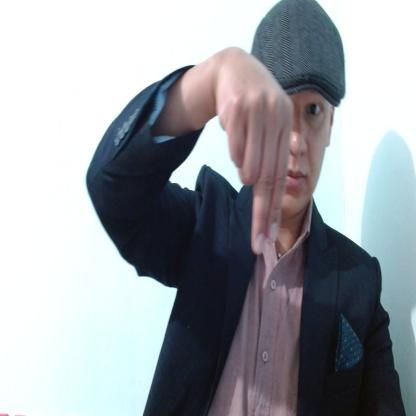N: (218, 45, 292, 253)
